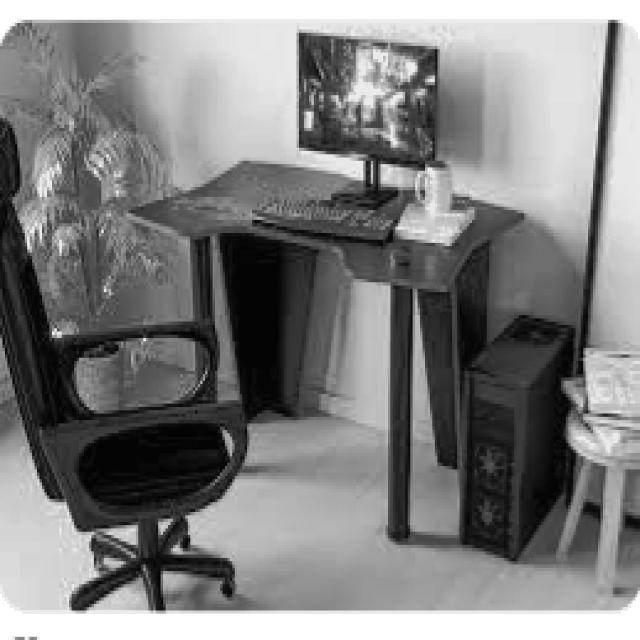book: (0, 109, 247, 610)
table: (123, 154, 524, 542)
